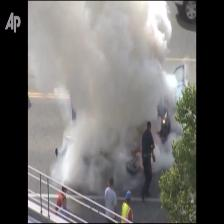smoke: (31, 2, 185, 178)
